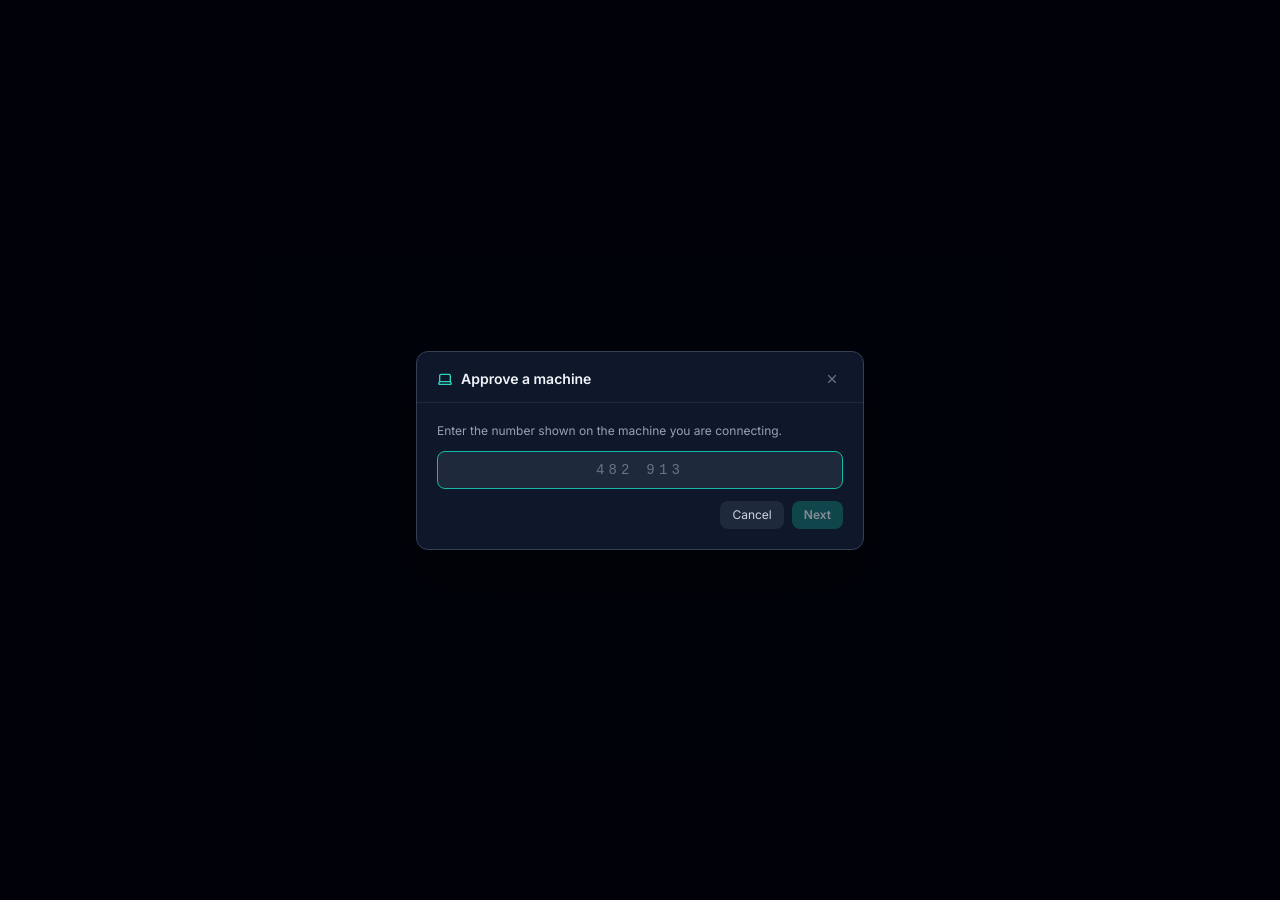
Scenario: ApproveRunnerDialog › shows the backend's reason inline when no machine has that number
The width and height of the screenshot is (1280, 900).
In the field named "Approval number": (640, 470) [437, 450, 843, 488], type "111111"
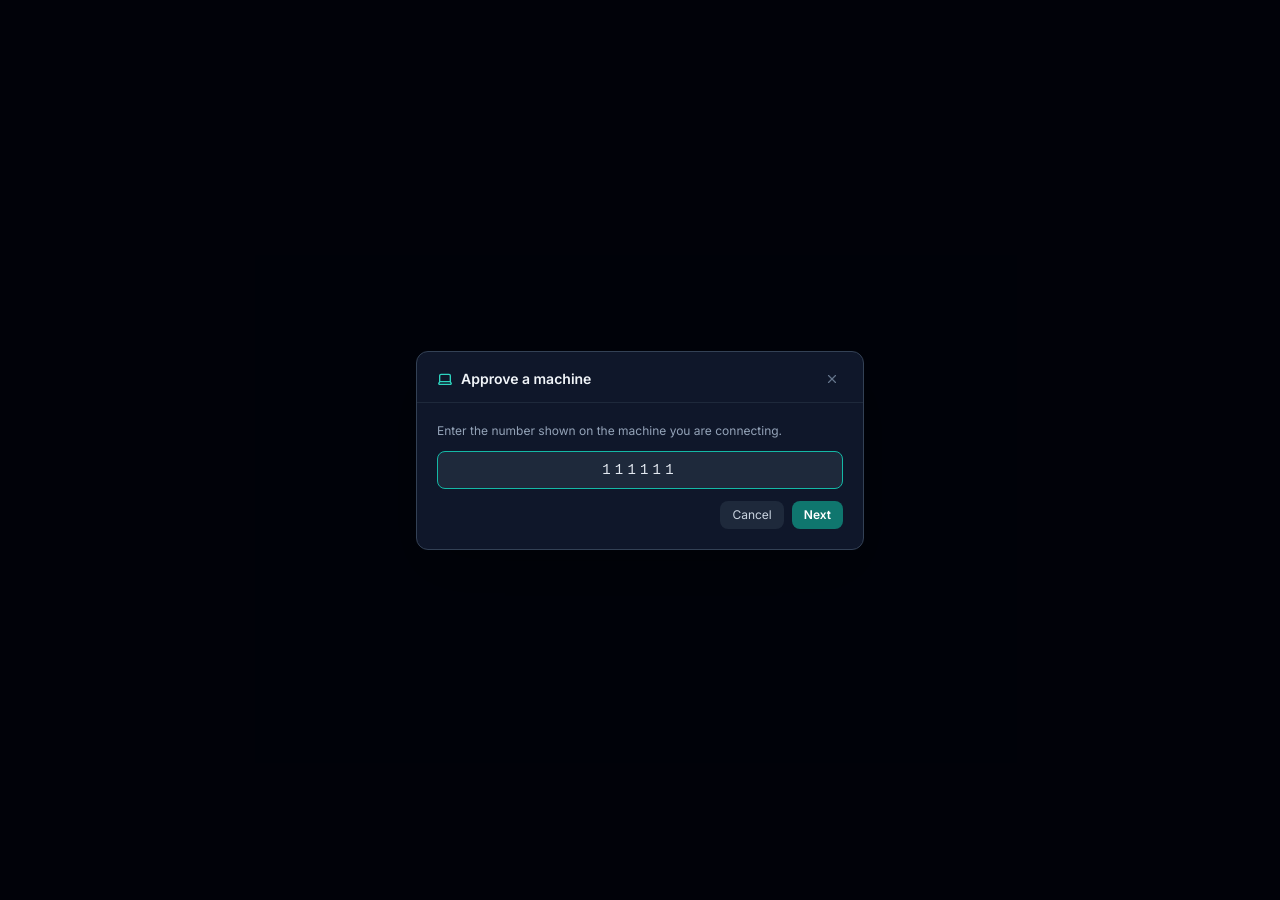
Click the button "Next": (817, 514) [792, 500, 843, 528]
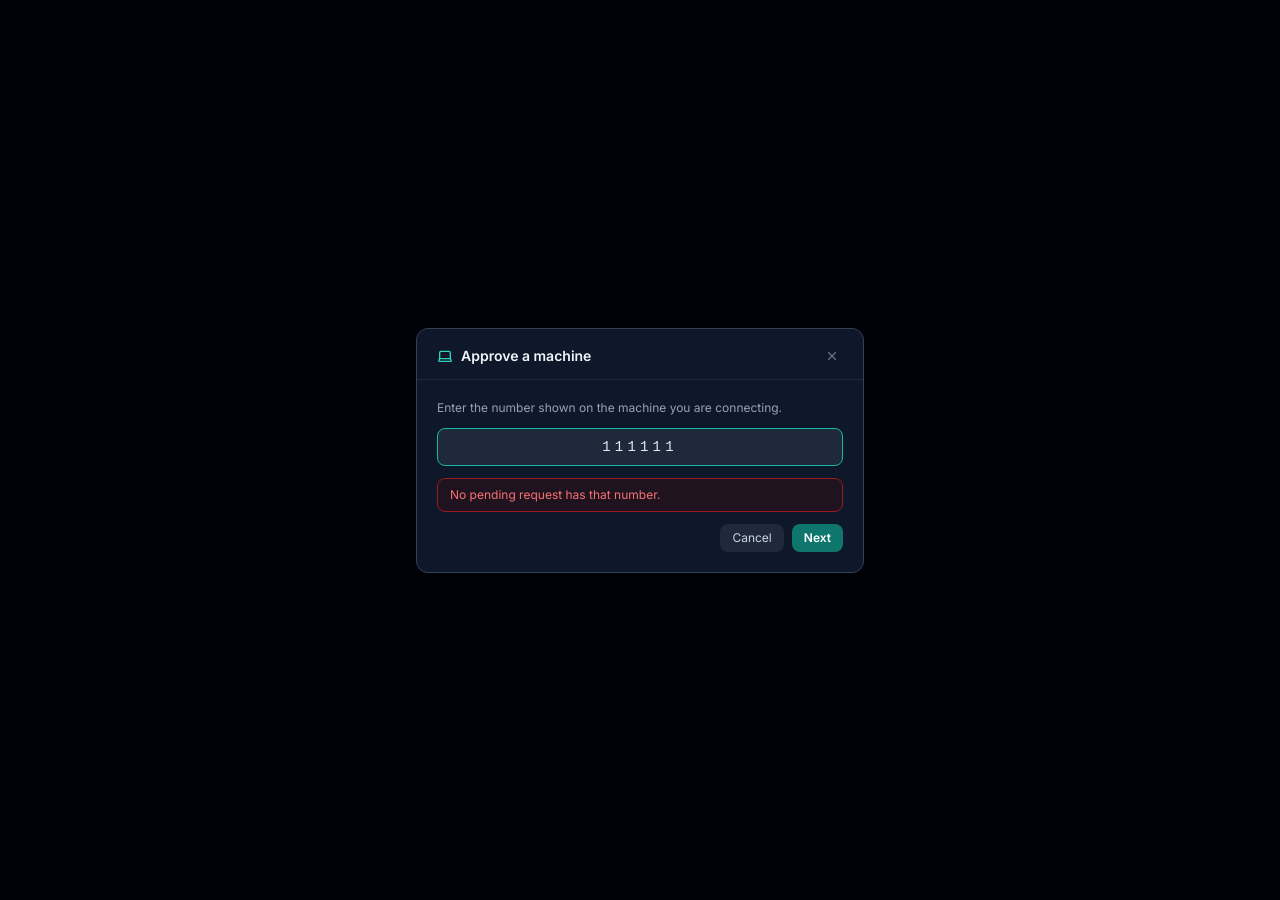
Expected: the message reads "No pending request has that number.", [450, 486, 660, 502]
